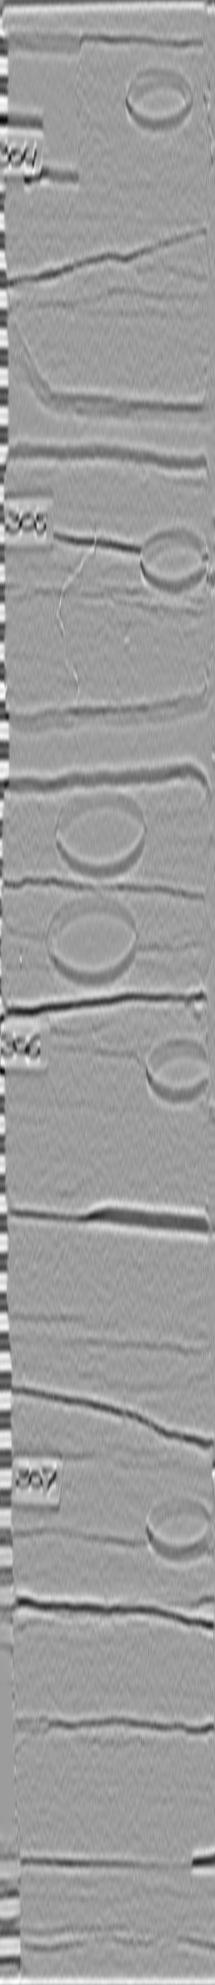hplug: (134, 520, 214, 598), (121, 62, 199, 134), (140, 1491, 215, 1565), (137, 1032, 210, 1105)
scal: (40, 889, 145, 987), (46, 787, 148, 884)
vplug: (18, 20, 89, 189), (38, 1015, 99, 1201), (44, 1456, 114, 1615)
